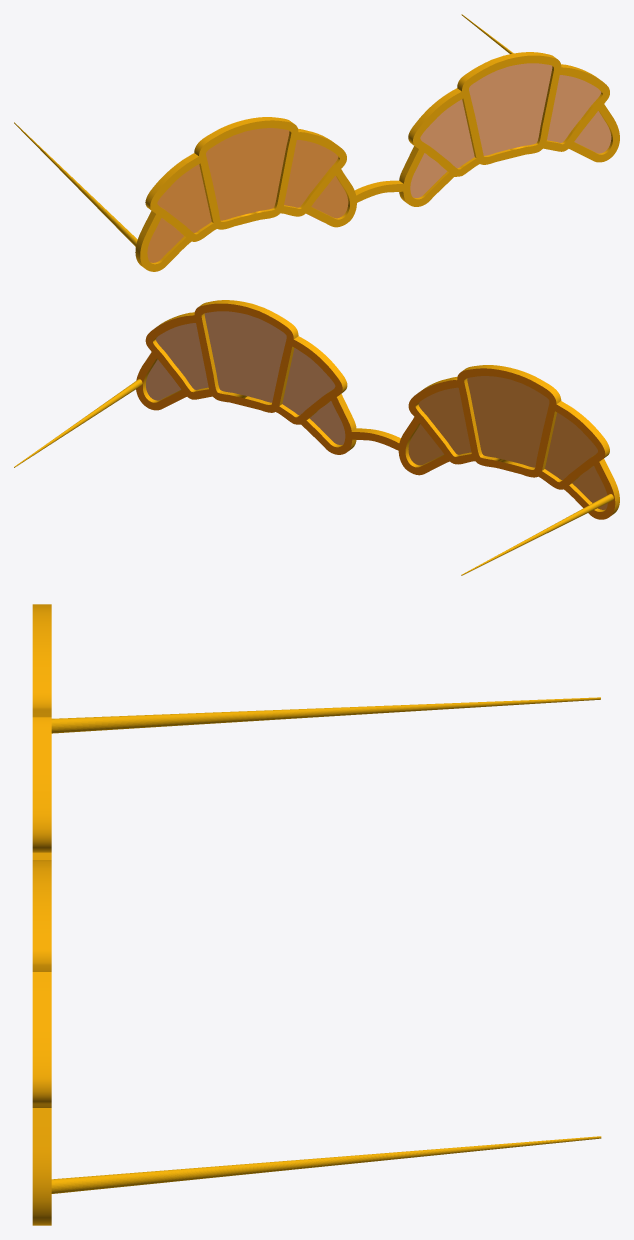
File: glasses6.glb
3 views of the same model, one above another, from view 1: azimuth 30°, elevation 25°; view 2: azimuth 150°, elevation 25°; view 3: azimuth 270°, elevation 25° (orthographic). The views are drawn at different scales.
Visible parts, largest first — view 1: Layer_3_Front_Inflation_Material-material, Layer_1_copy_Front_Inflation_Material-material, Layer_1_copy_Front_Inflation_Material_001-material, Layer_3_Extrusion_Material-material, Cylinder.001; view 2: Layer_3_Back_Inflation_Material-material, Layer_1_copy_Front_Inflation_Material_001-material, Layer_1_copy_Front_Inflation_Material-material, Layer_3_Extrusion_Material-material, Cylinder.001, Cylinder; view 3: Layer_3_Extrusion_Material-material, Cylinder, Cylinder.001.
Part boxes in pixels (x1=…): Layer_3_Front_Inflation_Material-material: x1=140, y1=55, x2=619, y2=271; Layer_1_copy_Front_Inflation_Material-material: x1=147, y1=128, x2=348, y2=262; Layer_1_copy_Front_Inflation_Material_001-material: x1=410, y1=63, x2=611, y2=197; Layer_3_Extrusion_Material-material: x1=135, y1=52, x2=612, y2=268; Cylinder.001: x1=14, y1=122, x2=137, y2=246; Layer_3_Back_Inflation_Material-material: x1=136, y1=303, x2=615, y2=519; Layer_1_copy_Front_Inflation_Material_001-material: x1=146, y1=311, x2=345, y2=444; Layer_1_copy_Front_Inflation_Material-material: x1=408, y1=376, x2=607, y2=509; Layer_3_Extrusion_Material-material: x1=143, y1=300, x2=619, y2=515; Cylinder.001: x1=461, y1=494, x2=613, y2=575; Cylinder: x1=14, y1=379, x2=142, y2=467; Layer_3_Extrusion_Material-material: x1=32, y1=604, x2=51, y2=1225; Cylinder: x1=51, y1=1136, x2=601, y2=1193; Cylinder.001: x1=51, y1=697, x2=600, y2=733.
Size of what is drawn, in the model's own units: 0.1696 by 0.0428 by 0.0871.
